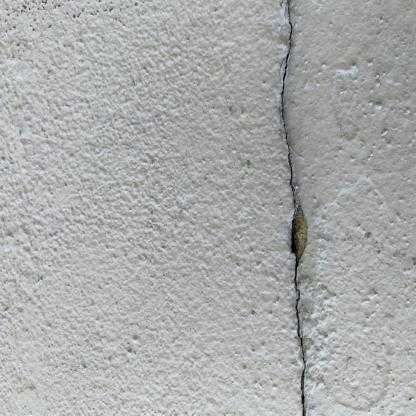crack: (280, 2, 309, 415)
